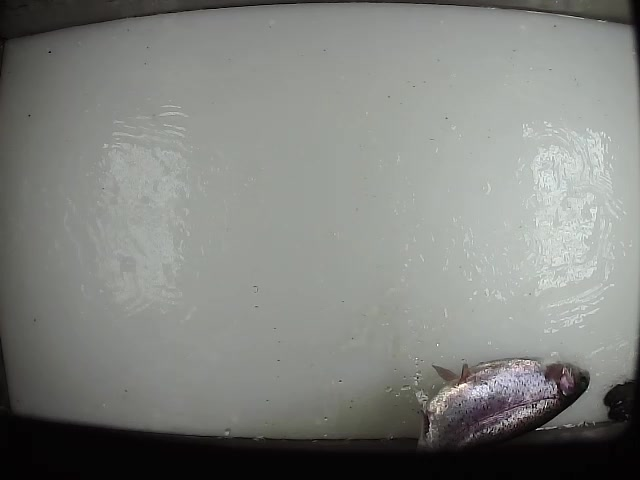fish: (410, 352, 593, 474)
